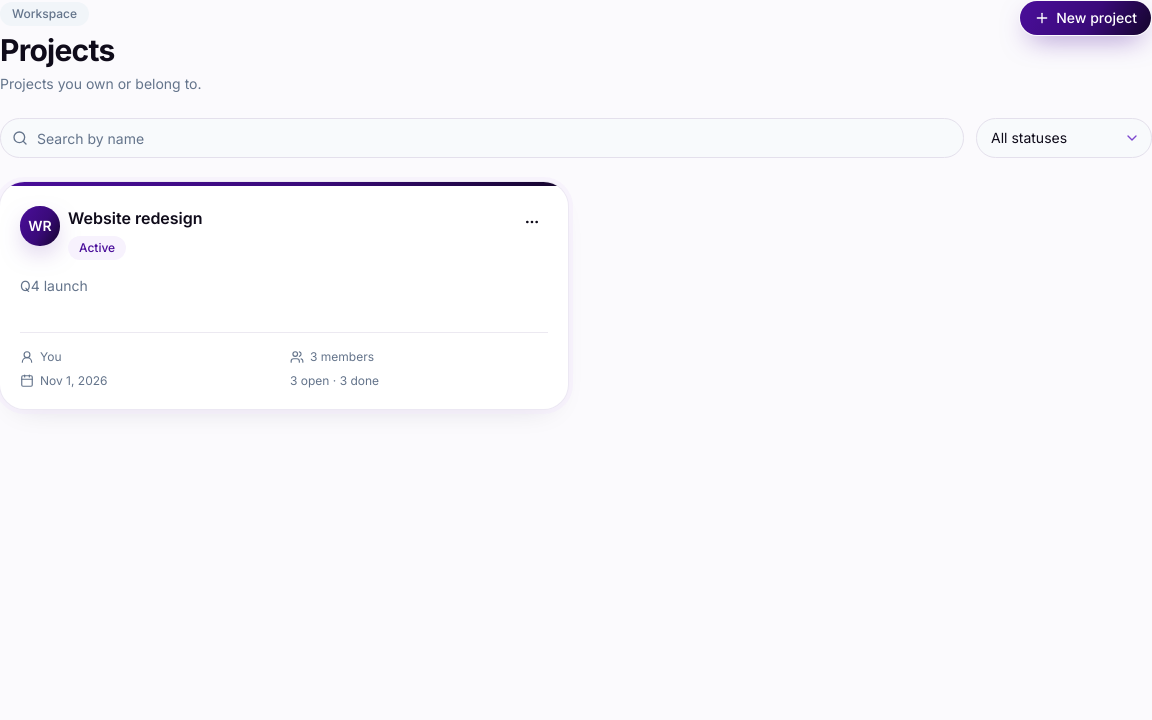
Test: delete › shows a clear permission message when the backend denies the delete
This screenshot has width=1152, height=720.
Expected: the heading "Projects" is shown, [0, 32, 114, 68]
Step 1. Click the button named "Actions for Website redesign" → click(532, 222), box [516, 206, 548, 238]
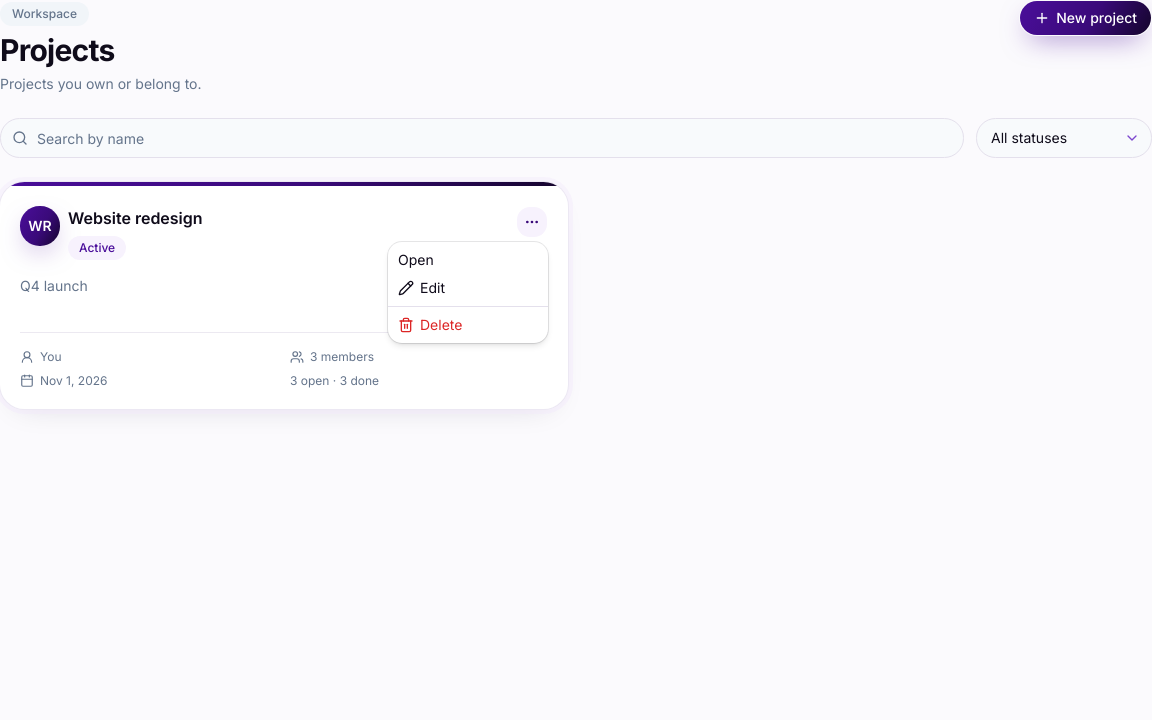
Step 2. Click the menu item "Delete" → click(430, 324), box [398, 316, 462, 333]
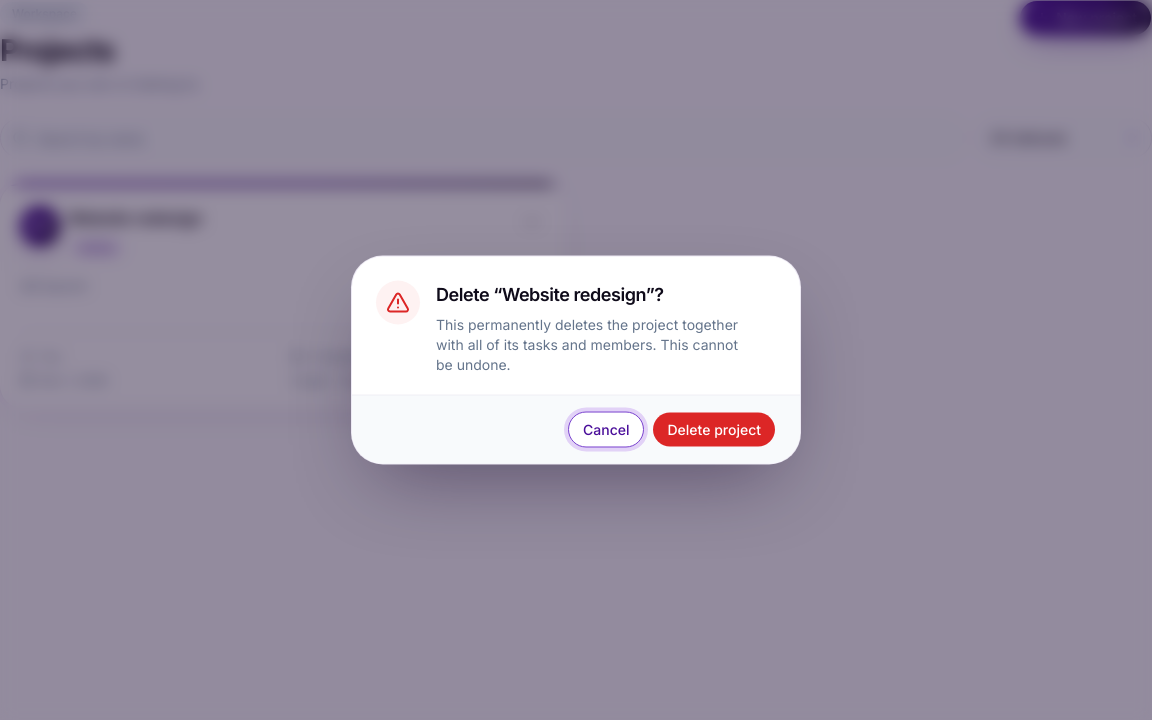
Step 3. Click the button "Delete project" → click(714, 430), box [652, 412, 776, 448]
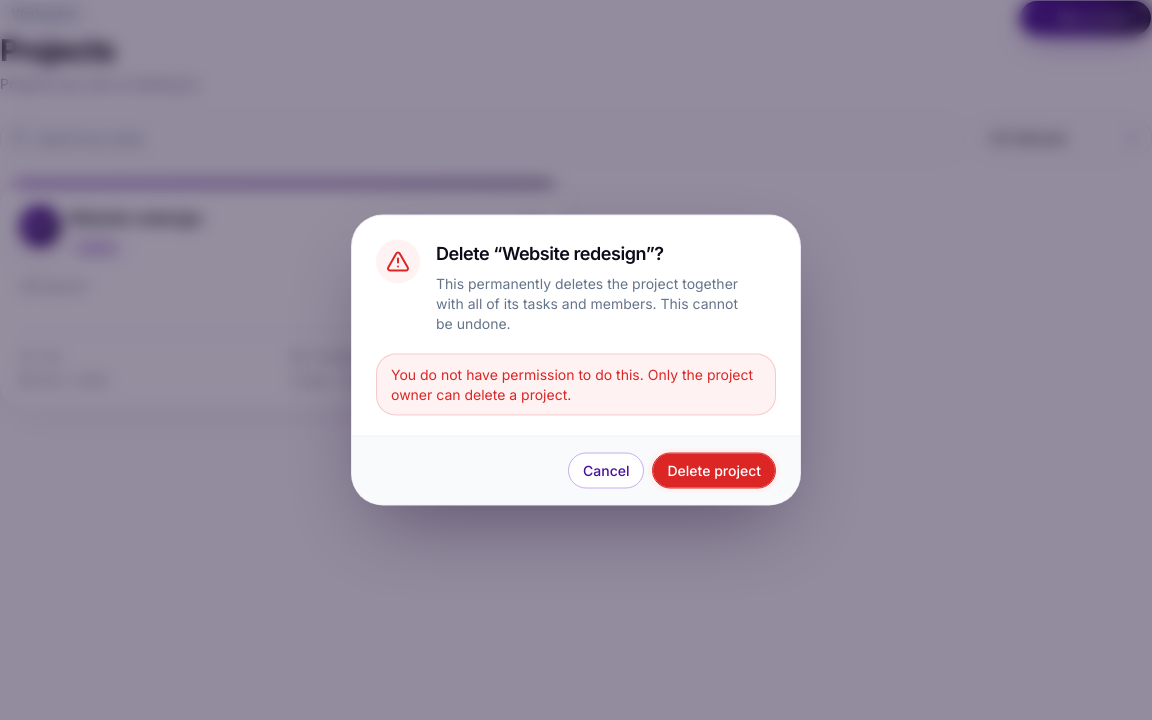
Expected: the link "Website redesign" is shown, [68, 208, 203, 228]
Now the message shows "You do not have permission to do this. Only the project owner can delete a project.", box [391, 366, 753, 402]
